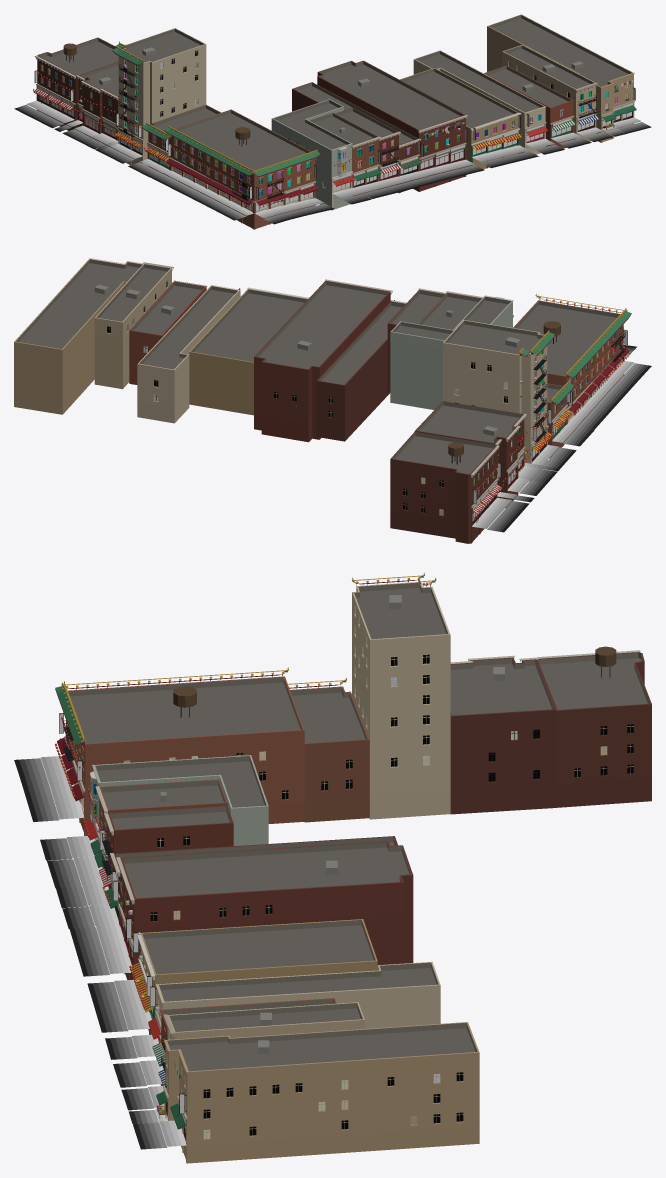
The picture shows the model from 3 angles, top to bottom: view 1: azimuth 30°, elevation 25°; view 2: azimuth 150°, elevation 25°; view 3: azimuth 270°, elevation 25°; orthographic projection. The views are drawn at different scales.
Visible parts, largest first — view 1: L0_roof, L0_ground, L0_brickred, L0_brick, L0_d_metal, L0_stone, L0_d_fabric, L0_stucco, L0_cwin, L0_clear, L0_d_stone, L0_d_brick (+8 smaller); view 2: L0_roof, L0_brickred, L0_brick, L0_d_brick, L0_ground, L0_stone, L0_stucco, L0_d_brickred, L0_d_stucco, L0_d_metal, L0_d_fabric, L0_d_paint (+7 smaller); view 3: L0_roof, L0_brickred, L0_brick, L0_ground, L0_stone, L0_d_brick, L0_win, L0_d_stucco, L0_d_metal, L0_d_fabric, L0_stucco, L0_d_paint (+4 smaller).
Part boxes in pixels (bbox=[...]): L0_roof: bbox=[38, 15, 631, 170]; L0_ground: bbox=[14, 100, 651, 224]; L0_brickred: bbox=[37, 59, 573, 228]; L0_brick: bbox=[118, 44, 633, 165]; L0_d_metal: bbox=[34, 47, 635, 212]; L0_stone: bbox=[34, 14, 634, 202]; L0_d_fabric: bbox=[33, 74, 636, 208]; L0_stucco: bbox=[271, 116, 518, 210]; L0_cwin: bbox=[41, 60, 628, 196]; L0_clear: bbox=[39, 95, 631, 210]; L0_d_stone: bbox=[36, 59, 634, 229]; L0_d_brick: bbox=[123, 26, 628, 153]; L0_roof: bbox=[16, 259, 619, 474]; L0_brickred: bbox=[129, 292, 623, 543]; L0_brick: bbox=[94, 268, 547, 481]; L0_d_brick: bbox=[14, 282, 544, 434]; L0_ground: bbox=[472, 345, 651, 532]; L0_stone: bbox=[14, 258, 624, 508]; L0_stucco: bbox=[390, 301, 512, 409]; L0_d_brickred: bbox=[162, 287, 621, 496]; L0_d_stucco: bbox=[189, 352, 253, 415]; L0_d_metal: bbox=[94, 284, 627, 524]; L0_d_fabric: bbox=[473, 317, 629, 514]; L0_d_paint: bbox=[172, 270, 631, 520]; L0_roof: bbox=[68, 582, 649, 1071]; L0_brickred: bbox=[66, 660, 651, 1085]; L0_brick: bbox=[157, 586, 479, 1163]; L0_ground: bbox=[14, 738, 186, 1149]; L0_stone: bbox=[64, 582, 651, 1119]; L0_d_brick: bbox=[158, 985, 440, 1109]; L0_win: bbox=[123, 654, 633, 1138]; L0_d_stucco: bbox=[91, 775, 377, 1017]; L0_d_metal: bbox=[59, 595, 610, 1140]; L0_d_fabric: bbox=[55, 720, 186, 1129]; L0_stucco: bbox=[90, 770, 268, 1034]; L0_d_paint: bbox=[55, 575, 434, 1112].
Bounding box in the file's own units: 137 × 37.29 × 93.22.
